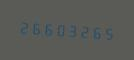five: (101, 22, 112, 43)
six: (29, 17, 40, 38), (89, 21, 100, 42), (41, 18, 52, 38)
three: (65, 19, 76, 40)
two: (17, 16, 28, 37), (77, 20, 88, 41)
zero: (53, 19, 64, 39)
